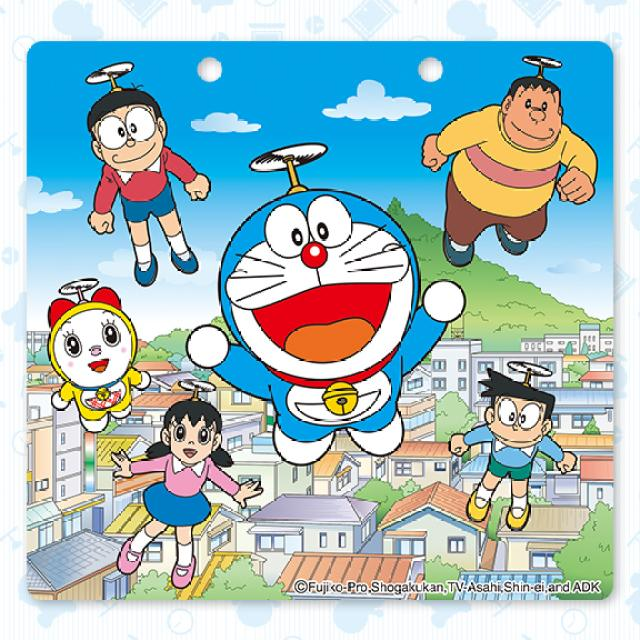doraemon: (203, 184, 464, 430), (132, 391, 232, 493)
jaian: (489, 58, 590, 163)
nobita: (78, 79, 181, 194)
suneo: (466, 357, 566, 472)
